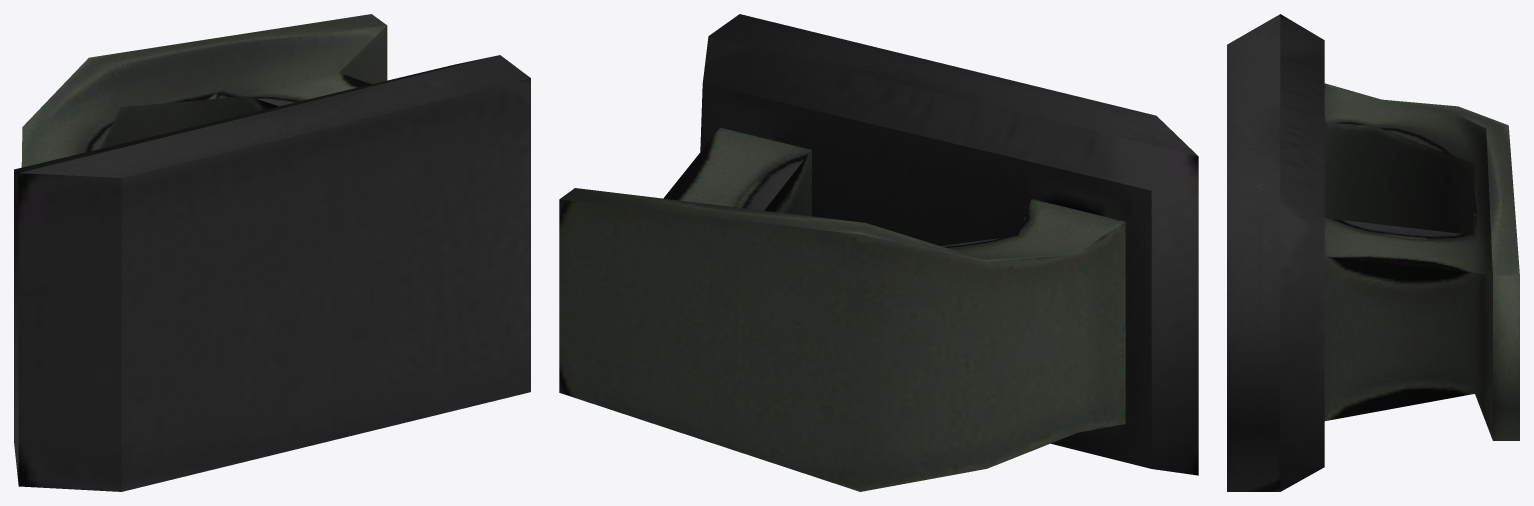
Rendered from t6_attach_pistol_fastmag_world_LOD1.obj.
The picture shows the model from 3 angles, left to right: view 1: azimuth 30°, elevation 25°; view 2: azimuth 150°, elevation 25°; view 3: azimuth 270°, elevation 25°; orthographic projection. The views are drawn at different scales.
Visible parts, largest first — view 1: mtl_t6_attach_fastmag; view 2: mtl_t6_attach_fastmag; view 3: mtl_t6_attach_fastmag.
Boxes of the visible parts, x1,y1,x2,y2 form: mtl_t6_attach_fastmag: [14, 14, 530, 491]; mtl_t6_attach_fastmag: [559, 14, 1198, 491]; mtl_t6_attach_fastmag: [1227, 14, 1519, 491].
Bounding box in the file's own units: 6.71 × 4.11 × 3.99.
